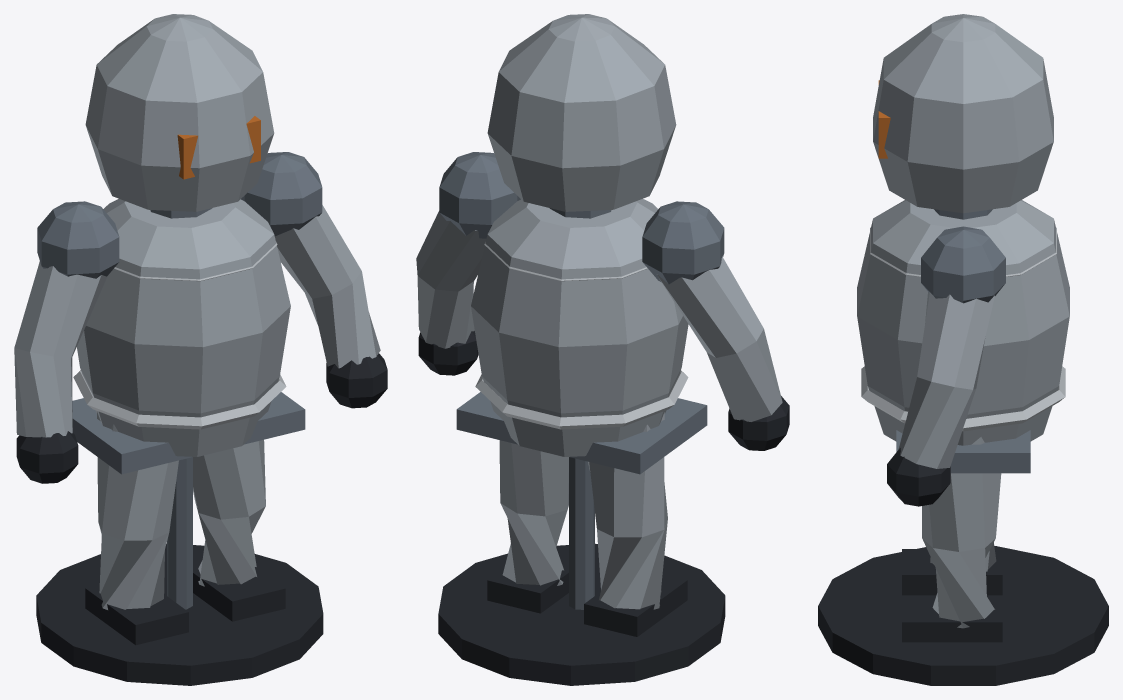
File: flame-proof-suit.glb
3 renders of one model, left to right at view 1: azimuth 30°, elevation 25°; view 2: azimuth 150°, elevation 25°; view 3: azimuth 270°, elevation 25°, orthographic.
Parts seen in each view (by area): view 1: m; view 2: m; view 3: m.
Part boxes in pixels (<box>): m: <box>14,14,387,685</box>; m: <box>416,14,789,685</box>; m: <box>818,14,1108,685</box>.
Bounding box in the file's own units: 0.352 × 0.56 × 0.2426.
